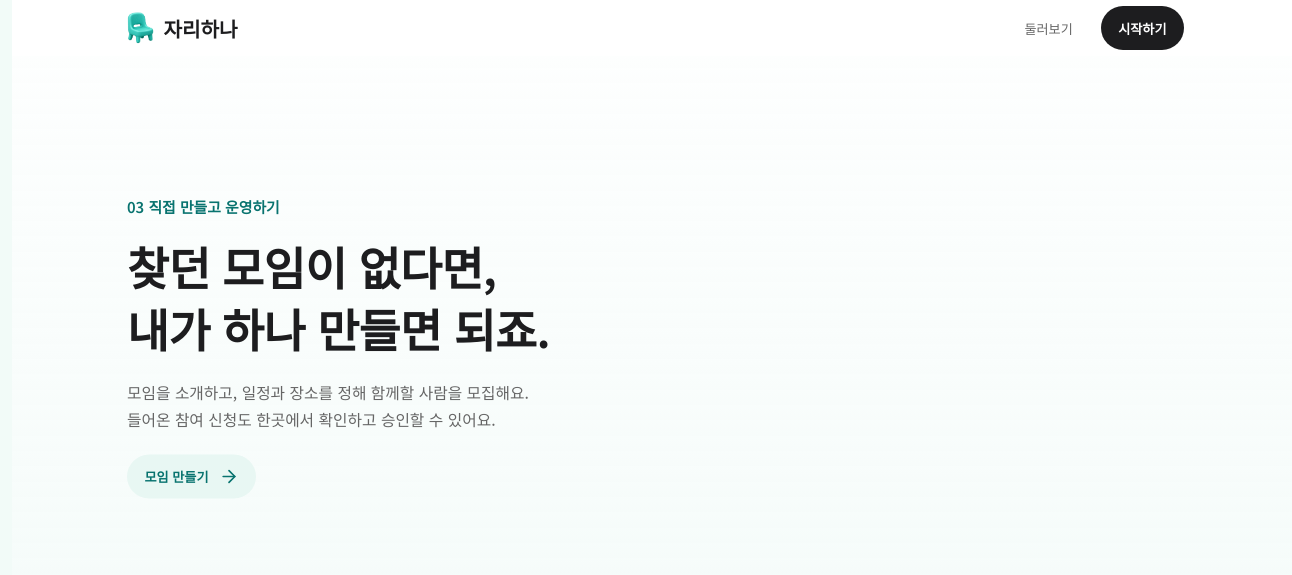
Test case: reports a failed login connection and retains the creation destination for retry
(page scrolled)
Click the button "모임 만들기" at (192, 476), box [127,454,256,498]
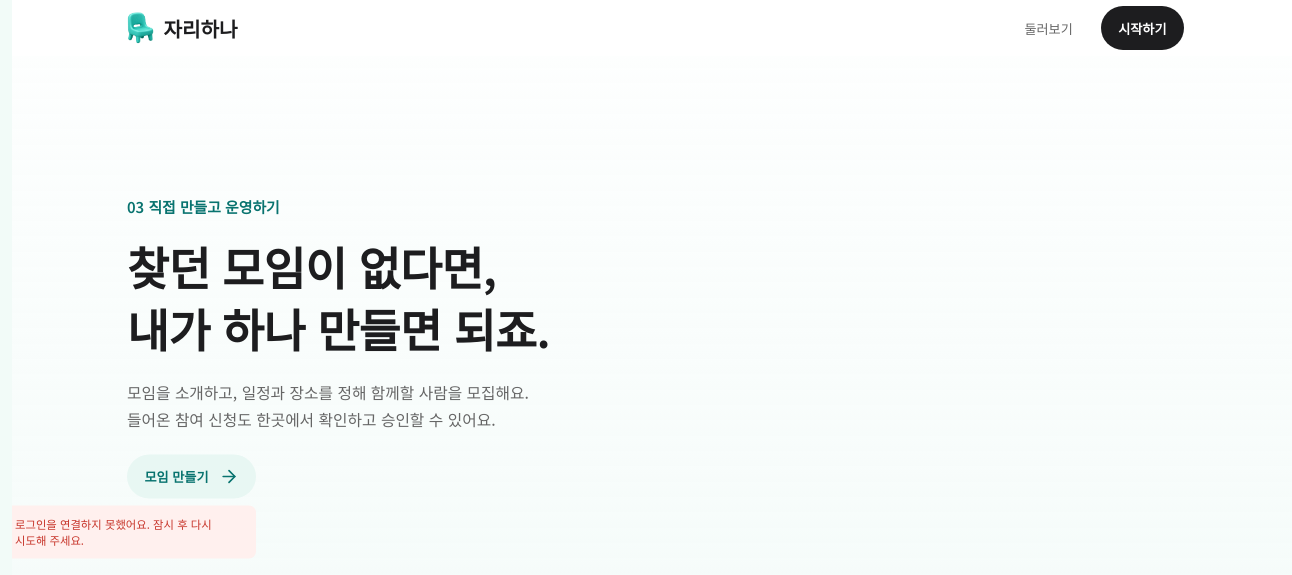
expect the message shows "로그인을 연결하지 못했어요": met, box [15,516,212,548]
